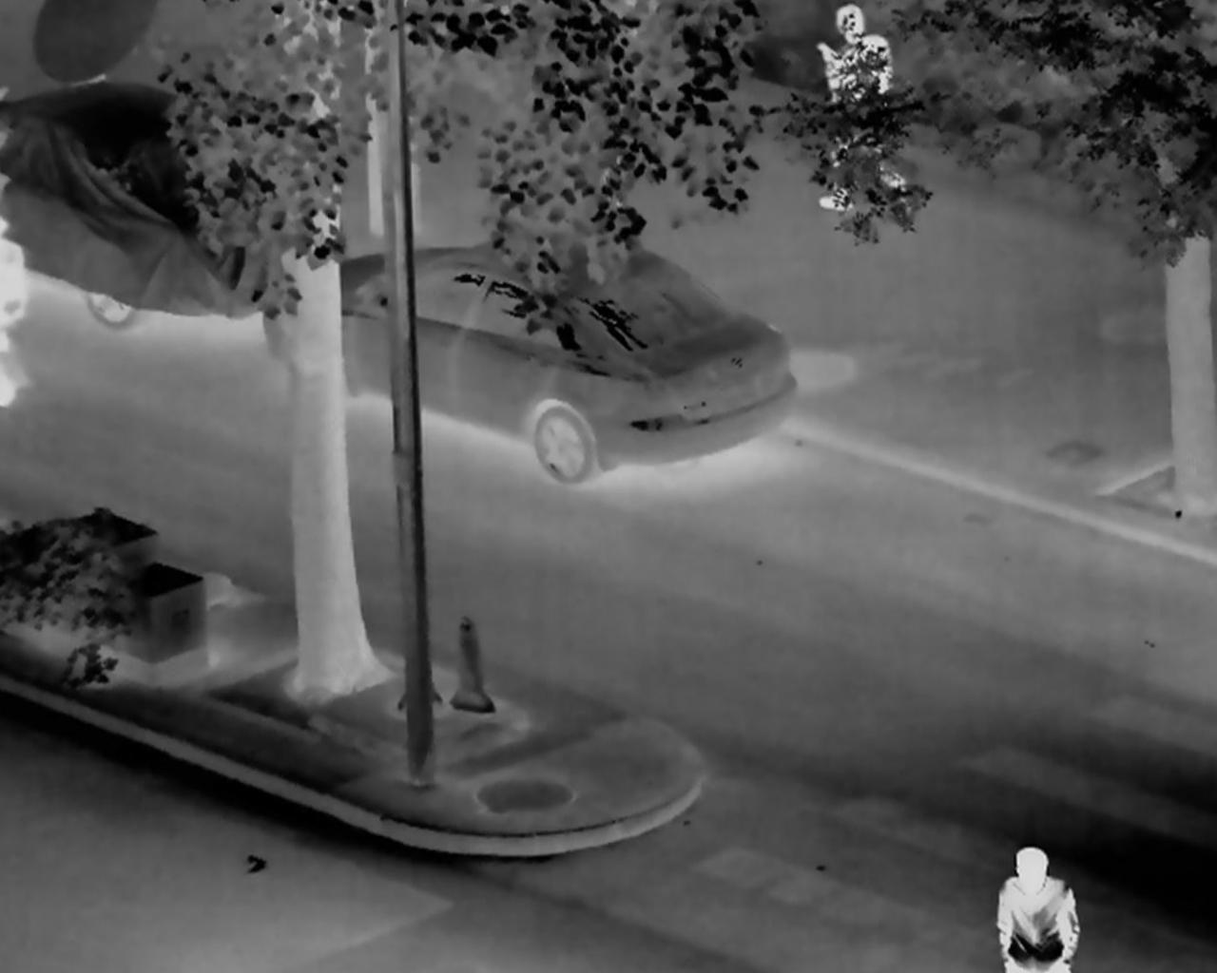person: (816, 6, 903, 211), (998, 845, 1081, 973)
